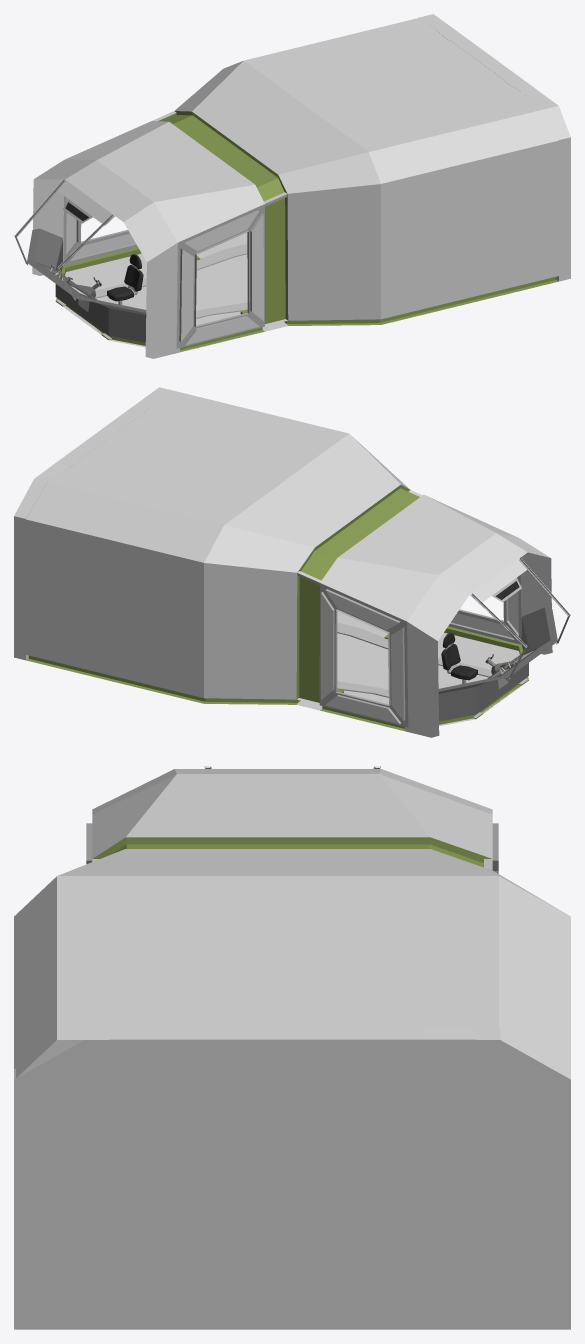
File: Spaceship.fbx
The picture shows the model from 3 angles, top to bottom: view 1: azimuth 30°, elevation 25°; view 2: azimuth 150°, elevation 25°; view 3: azimuth 270°, elevation 25°; orthographic projection. The views are drawn at different scales.
Parts seen in each view (by area): view 1: Plane, ChairLeg; view 2: Plane, ChairLeg; view 3: Plane.
Boxes of the visible parts, x1=… form: Plane: x1=27, y1=14, x2=570, y2=358; ChairLeg: x1=107, y1=254, x2=143, y2=304; Plane: x1=14, y1=387, x2=557, y2=737; ChairLeg: x1=441, y1=633, x2=477, y2=683; Plane: x1=14, y1=769, x2=570, y2=1329.
Size of the model in its own units: 3255 by 1120 by 1949.
